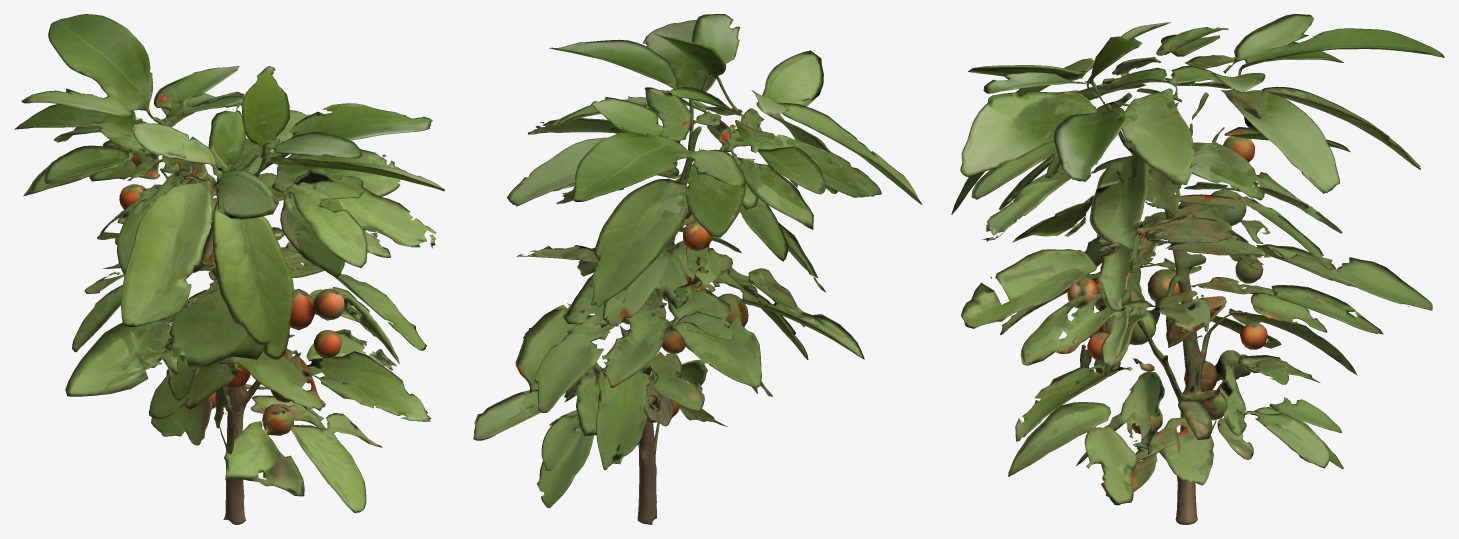
File: Ahwagandha.glb
The picture shows the model from 3 angles, left to right: view 1: azimuth 30°, elevation 25°; view 2: azimuth 150°, elevation 25°; view 3: azimuth 270°, elevation 25°; orthographic projection. The views are drawn at different scales.
Size of the model in its own units: 1.53 by 2 by 1.85.
1 material, 1 textured.
